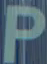Parking: (1, 2, 46, 61)
